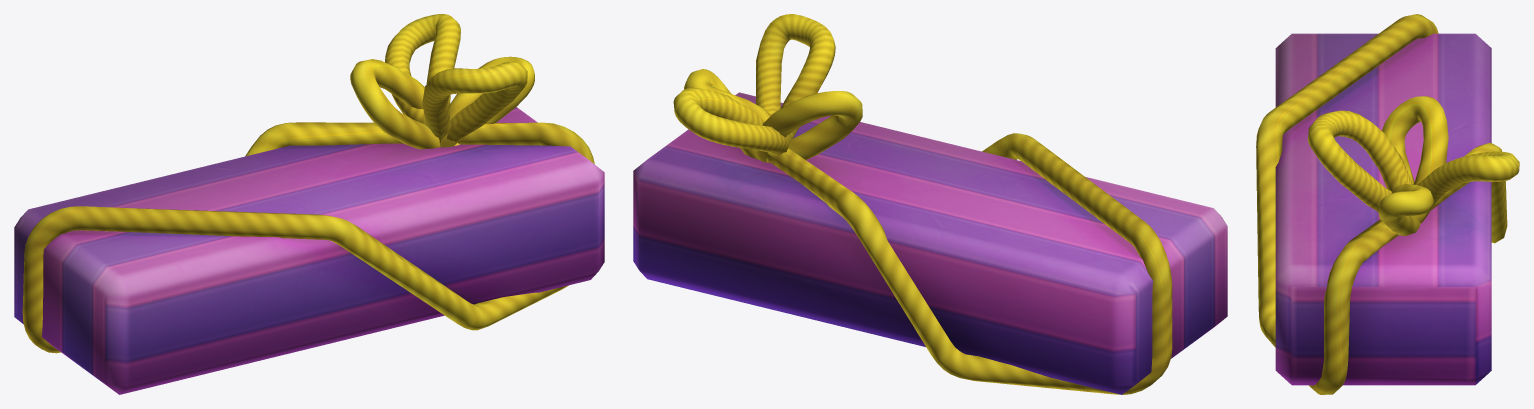
The model's file is SE_Present_05.fbx.
3 views of the same model, side by side, from view 1: azimuth 30°, elevation 25°; view 2: azimuth 150°, elevation 25°; view 3: azimuth 270°, elevation 25° (orthographic).
Visible parts, largest first — view 1: SE_Present_05; view 2: SE_Present_05; view 3: SE_Present_05.
Part boxes in pixels (x1=…): SE_Present_05: x1=14, y1=14, x2=604, y2=394; SE_Present_05: x1=633, y1=14, x2=1227, y2=394; SE_Present_05: x1=1256, y1=14, x2=1519, y2=394.
Bounding box in the file's own units: 2.65 × 1.14 × 1.14.
